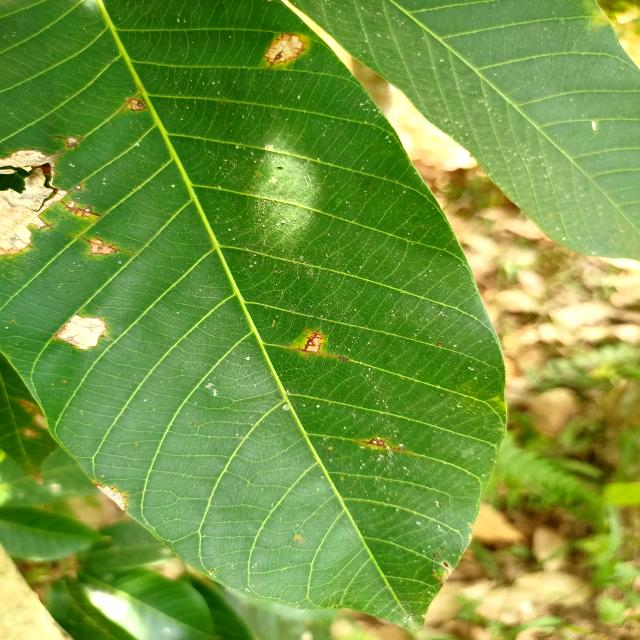Colletotrichum: (266, 34, 304, 64), (74, 184, 82, 190), (436, 342, 444, 347), (61, 216, 64, 219), (31, 148, 35, 150), (114, 251, 118, 253), (108, 125, 111, 127), (7, 148, 9, 151), (99, 247, 102, 249)
Corynespora: (82, 236, 135, 258), (59, 200, 101, 217), (359, 435, 397, 450), (303, 328, 326, 350), (290, 345, 327, 358), (119, 97, 147, 112), (53, 136, 82, 148), (14, 234, 32, 247), (38, 217, 54, 230), (6, 239, 20, 250)
Leaf-Blight: (0, 150, 69, 254), (56, 315, 106, 350), (275, 54, 282, 60)
